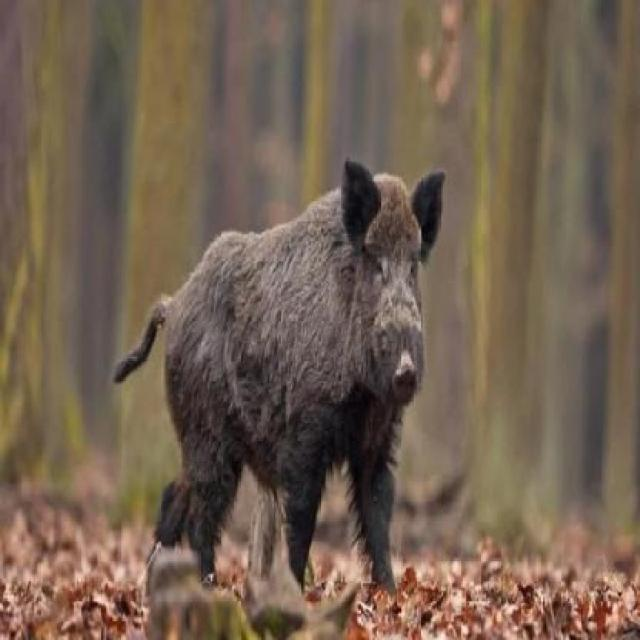wildboar: (107, 142, 455, 616)
